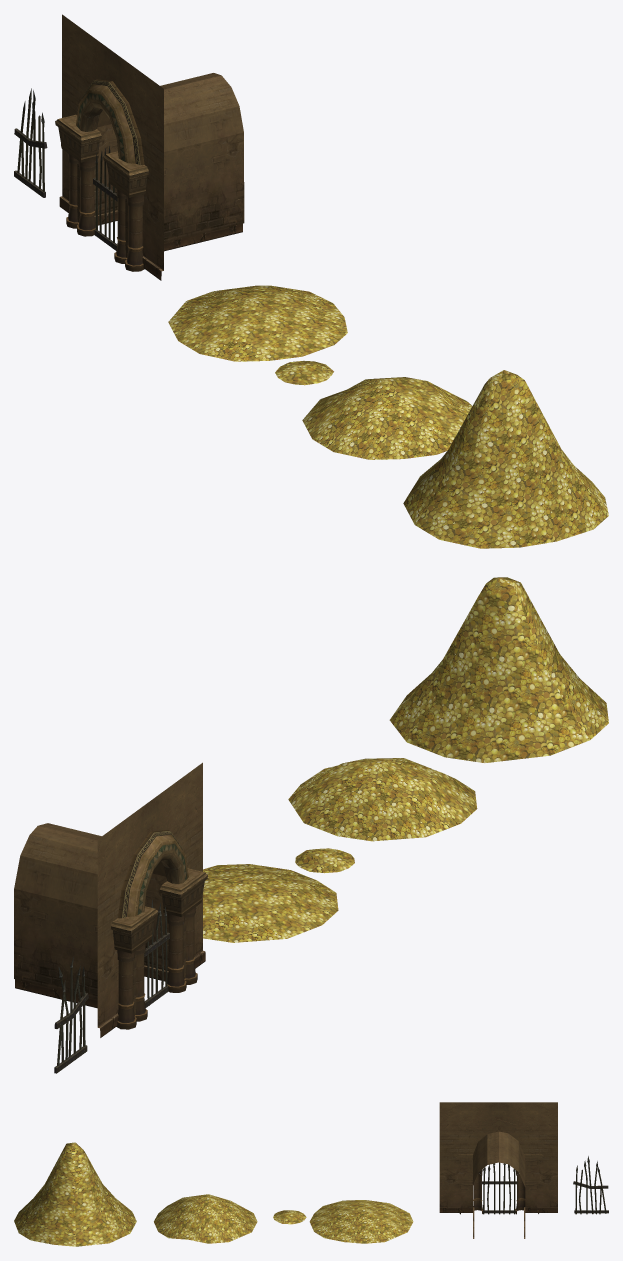
The model's file is hjzc_thing_jianzhu001.FBX.
3 views of the same model, one above another, from view 1: azimuth 30°, elevation 25°; view 2: azimuth 150°, elevation 25°; view 3: azimuth 270°, elevation 25° (orthographic). The views are drawn at different scales.
Parts seen in each view (by area): view 1: hjzc_jz_jianzhu_001, hjzc_thing_jinbi004, hjzc_thing_jinbi001, hjzc_thing_jinbi003, hjzc_jz_tiezhamen002, hjzc_jz_tiezhamen001, hjzc_thing_jinbi002; view 2: hjzc_jz_jianzhu_001, hjzc_thing_jinbi004, hjzc_thing_jinbi003, hjzc_thing_jinbi001, hjzc_jz_tiezhamen002, hjzc_jz_tiezhamen001, hjzc_thing_jinbi002; view 3: hjzc_jz_jianzhu_001, hjzc_thing_jinbi004, hjzc_thing_jinbi003, hjzc_thing_jinbi001, hjzc_jz_tiezhamen001, hjzc_jz_tiezhamen002, hjzc_thing_jinbi002.
Part boxes in pixels (<box>): hjzc_jz_jianzhu_001: <box>55,14,244,280</box>; hjzc_thing_jinbi004: <box>403,370,608,548</box>; hjzc_thing_jinbi001: <box>168,285,347,361</box>; hjzc_thing_jinbi003: <box>302,377,472,459</box>; hjzc_jz_tiezhamen002: <box>14,88,47,197</box>; hjzc_jz_tiezhamen001: <box>93,146,117,250</box>; hjzc_thing_jinbi002: <box>275,360,333,385</box>; hjzc_jz_jianzhu_001: <box>14,762,207,1037</box>; hjzc_thing_jinbi004: <box>389,577,608,763</box>; hjzc_thing_jinbi003: <box>288,758,477,841</box>; hjzc_thing_jinbi001: <box>203,864,338,942</box>; hjzc_jz_tiezhamen002: <box>54,957,88,1073</box>; hjzc_jz_tiezhamen001: <box>144,899,169,1007</box>; hjzc_thing_jinbi002: <box>295,848,354,873</box>; hjzc_jz_jianzhu_001: <box>439,1102,557,1238</box>; hjzc_thing_jinbi004: <box>14,1142,136,1246</box>; hjzc_thing_jinbi003: <box>154,1194,257,1243</box>; hjzc_thing_jinbi001: <box>309,1200,413,1243</box>; hjzc_jz_tiezhamen001: <box>481,1162,517,1214</box>; hjzc_jz_tiezhamen002: <box>573,1156,608,1214</box>; hjzc_thing_jinbi002: <box>273,1210,306,1224</box>.
Bounding box in the file's own units: 709 × 3544 × 741.
